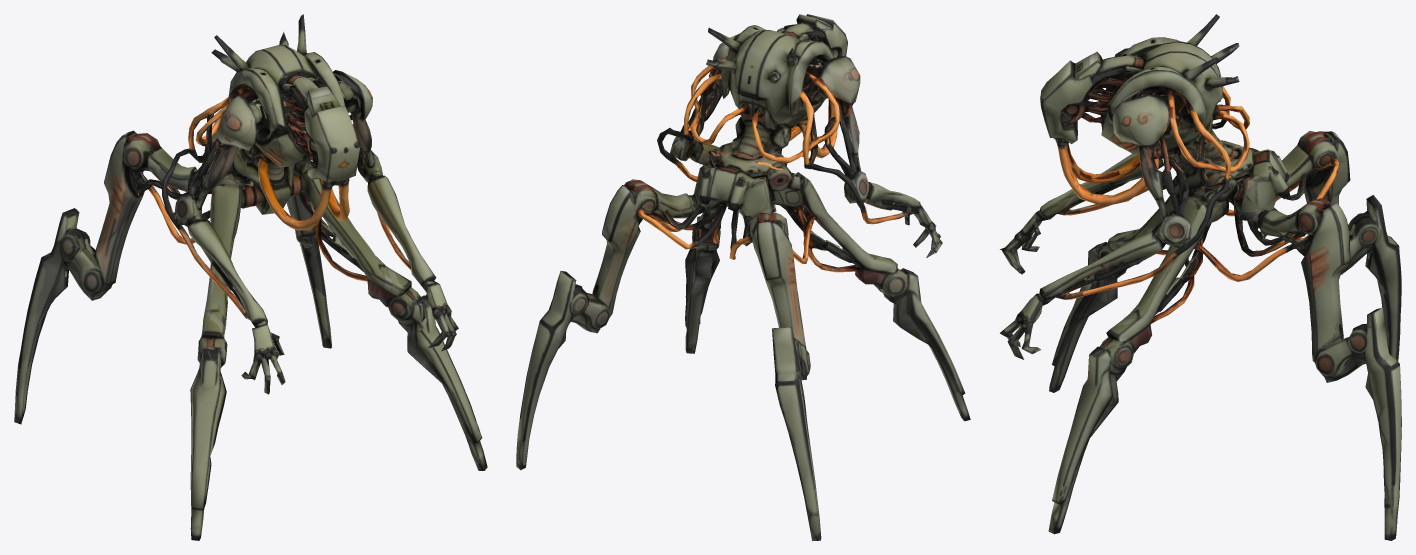
The model's file is Meshy_AI_Mech_Stalker_0126172605_texture.fbx.
3 renders of one model, left to right at view 1: azimuth 30°, elevation 25°; view 2: azimuth 150°, elevation 25°; view 3: azimuth 270°, elevation 25°, orthographic. The views are drawn at different scales.
Parts seen in each view (by area): view 1: Mesh1.0; view 2: Mesh1.0; view 3: Mesh1.0.
Boxes of the visible parts, x1,y1,x2,y2 form: Mesh1.0: (14, 14, 487, 540); Mesh1.0: (516, 14, 970, 540); Mesh1.0: (1000, 14, 1401, 540).
Size of the model in its own units: 150 by 191 by 163.
1 material, 1 textured.
